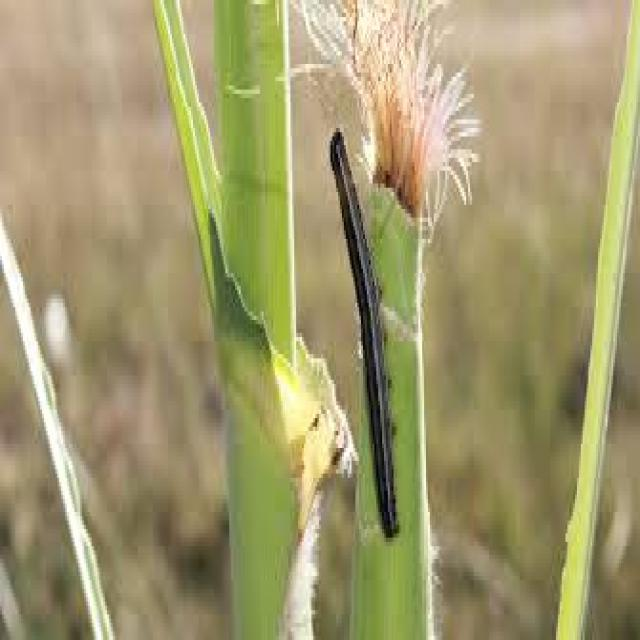armyworm: (327, 127, 411, 546)
